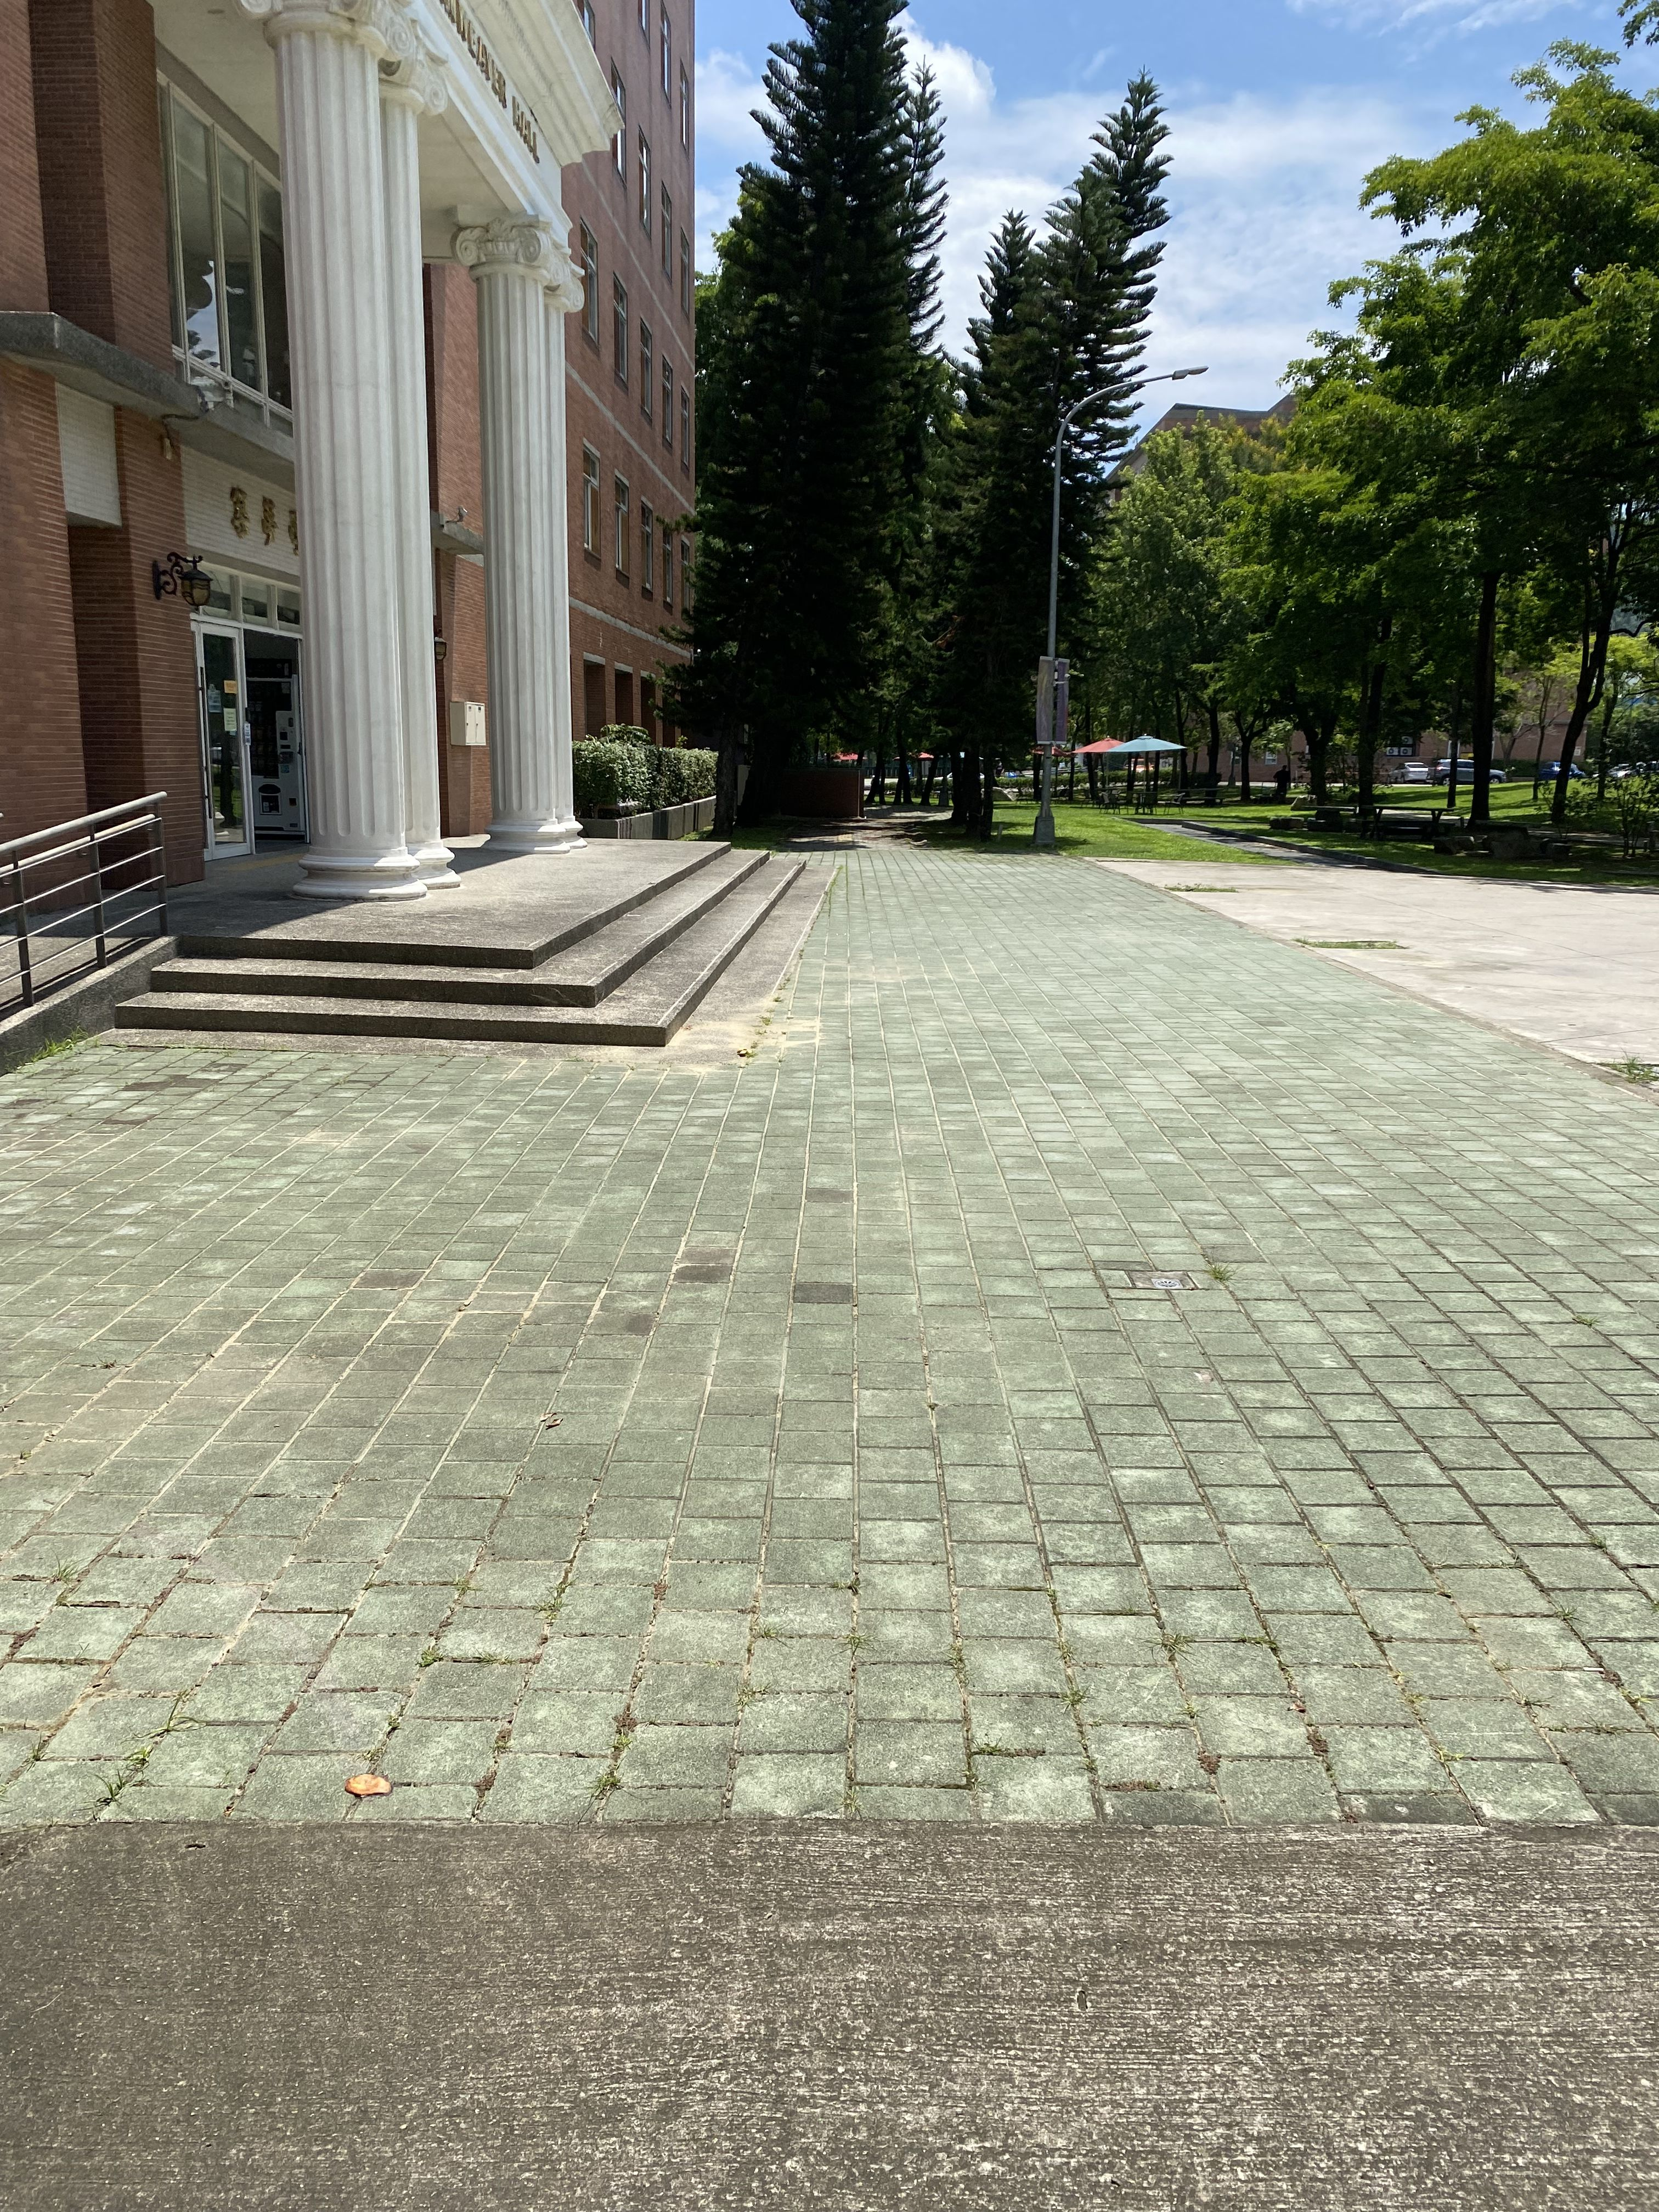0: (5, 914, 699, 2212)
sidewalk: (612, 763, 1659, 2212)
